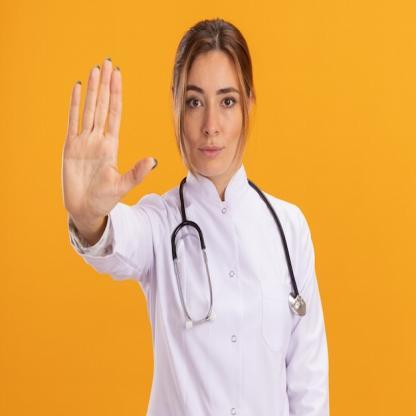stop: (61, 52, 160, 231)
